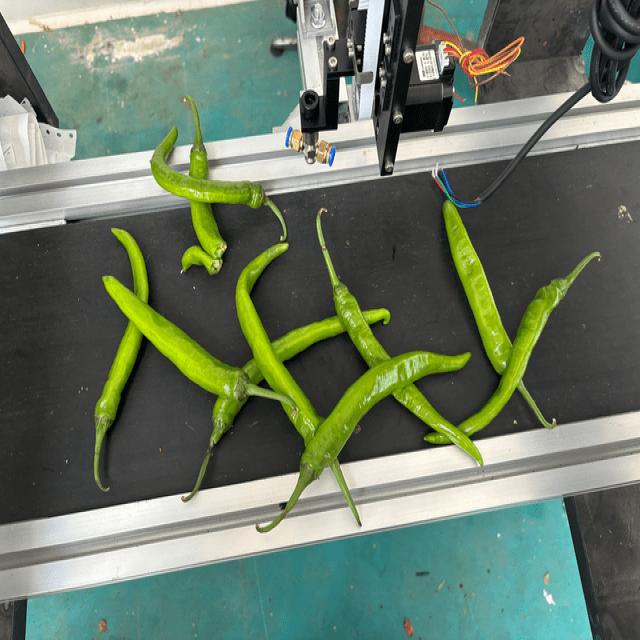chili: (332, 282, 486, 477), (420, 278, 573, 443), (211, 306, 393, 438), (298, 349, 473, 482), (233, 240, 336, 460), (99, 272, 249, 399), (441, 197, 519, 380), (93, 224, 152, 435), (149, 122, 266, 208), (180, 140, 228, 274)
